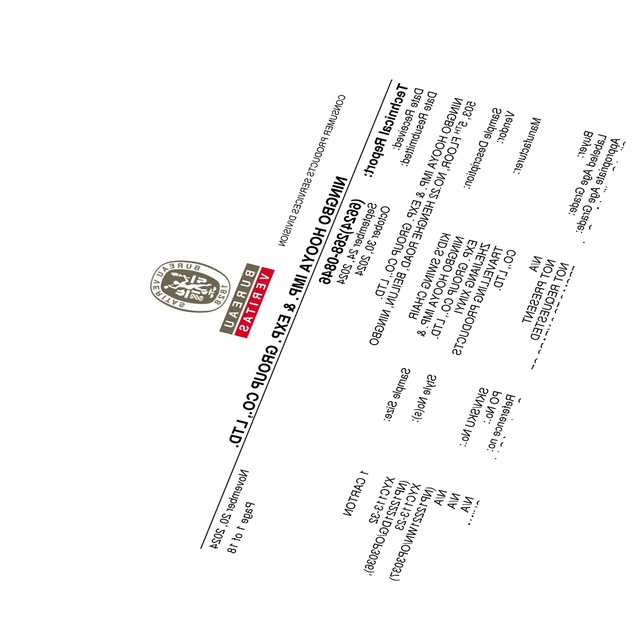bureau_veritas: (149, 257, 275, 337)
